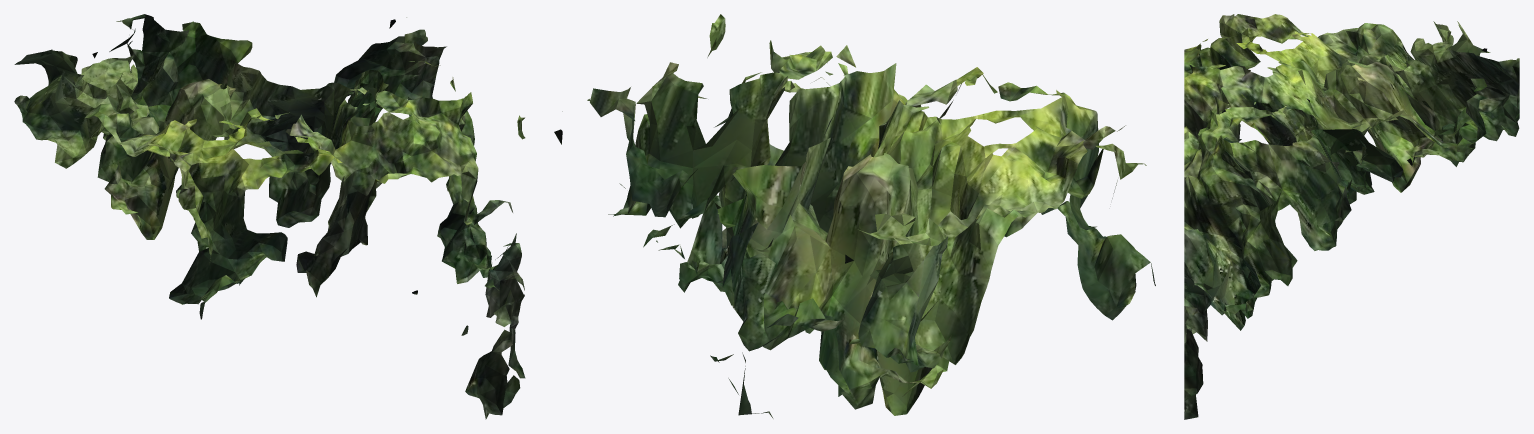
3 views of the same model, side by side, from view 1: azimuth 30°, elevation 25°; view 2: azimuth 150°, elevation 25°; view 3: azimuth 270°, elevation 25° (orthographic). The views are drawn at different scales.
Size of the model in its own units: 26.11 by 23.61 by 26.11.
Materials: 5 (5 with a texture image).
